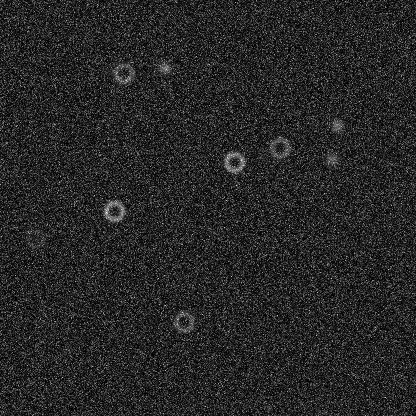Ring: (102, 198, 126, 222), (267, 135, 291, 159), (111, 60, 135, 84), (171, 309, 195, 333), (222, 149, 246, 173), (23, 226, 47, 250)
Spot: (323, 150, 339, 166), (328, 117, 344, 133), (156, 59, 172, 75)
